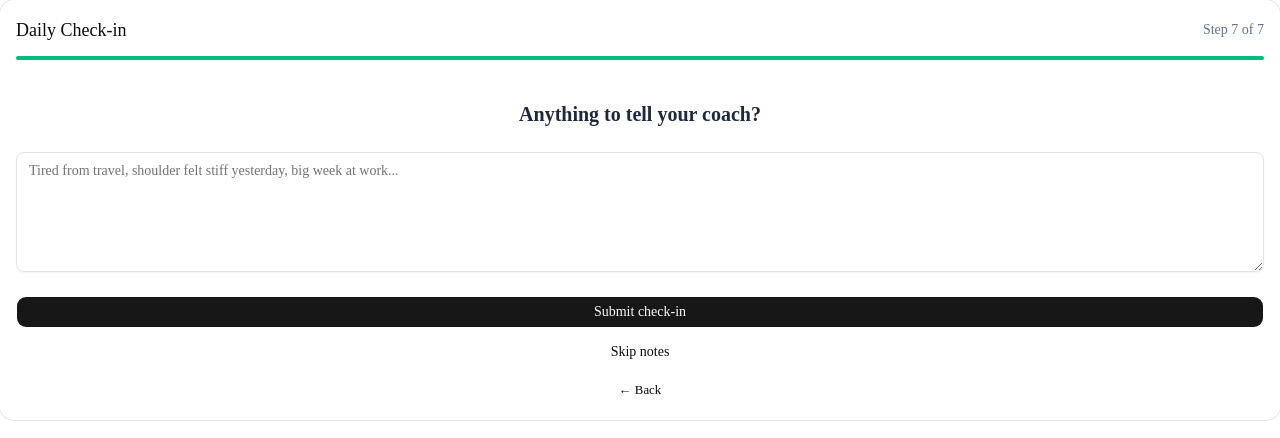
Test: ReadinessForm — submission › shows warnings after submission when returned
Click the button "Submit check-in" at (640, 312), box [16,296,1264,328]
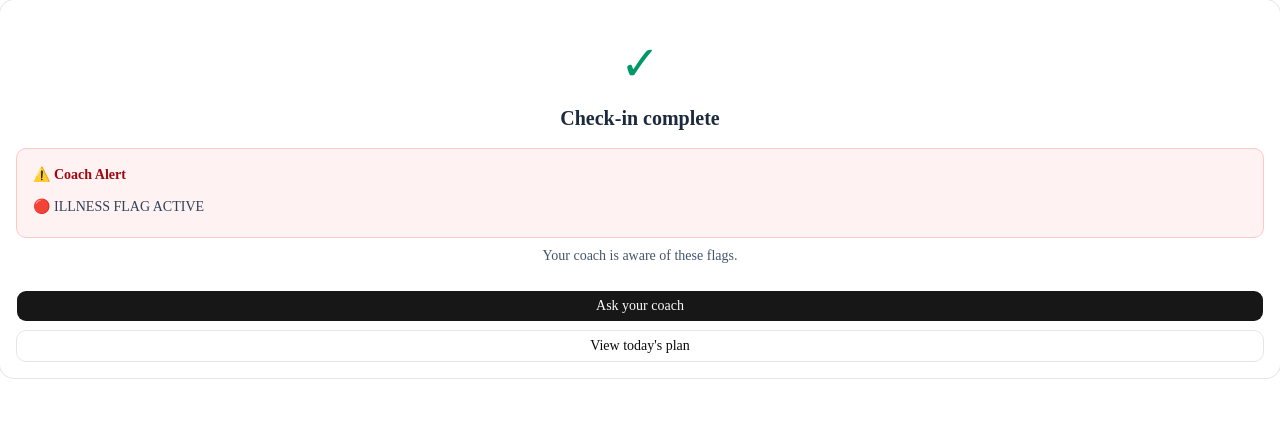
Now the text "🔴 ILLNESS FLAG ACTIVE" is shown, box [33,199,204,214]
